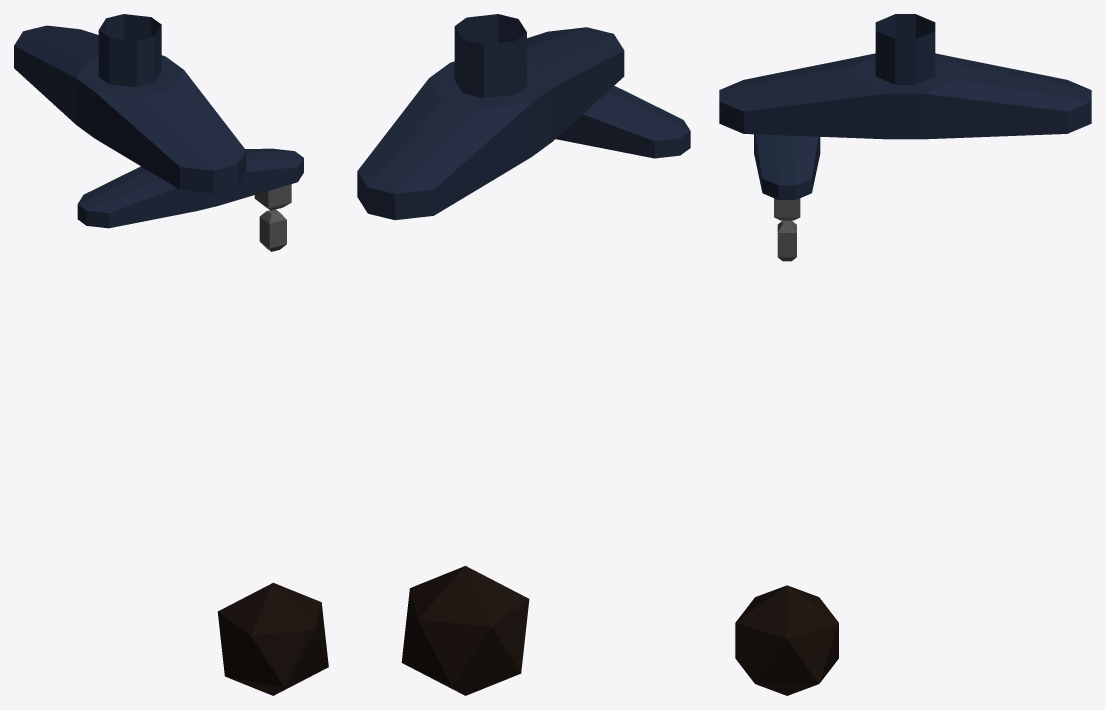
The model's file is BallВestroyer.fbx.
3 views of the same model, side by side, from view 1: azimuth 30°, elevation 25°; view 2: azimuth 150°, elevation 25°; view 3: azimuth 270°, elevation 25° (orthographic). The views are drawn at different scales.
Parts seen in each view (by area): view 1: BallВestroyer_Base, BallВestroyer, BallВestroyer_Second, BallВestroyer_SpringChain, BallВestroyer_FixedChain; view 2: BallВestroyer_Base, BallВestroyer, BallВestroyer_Second; view 3: BallВestroyer_Base, BallВestroyer, BallВestroyer_Second, BallВestroyer_SpringChain.
Boxes of the visible parts, left/top/right/bottom form: BallВestroyer_Base: left=14, top=14, right=246, bottom=193; BallВestroyer: left=217, top=582, right=328, bottom=695; BallВestroyer_Second: left=77, top=148, right=303, bottom=228; BallВestroyer_SpringChain: left=259, top=209, right=286, bottom=251; BallВestroyer_FixedChain: left=254, top=184, right=291, bottom=210; BallВestroyer_Base: left=357, top=14, right=624, bottom=220; BallВestroyer: left=401, top=566, right=529, bottom=695; BallВestroyer_Second: left=556, top=85, right=690, bottom=158; BallВestroyer_Base: left=719, top=14, right=1091, bottom=139; BallВestroyer: left=735, top=585, right=838, bottom=695; BallВestroyer_Second: left=754, top=134, right=820, bottom=199; BallВestroyer_SpringChain: left=777, top=220, right=796, bottom=261.
Size of the model in its own units: 1.11 by 2.84 by 1.52.
